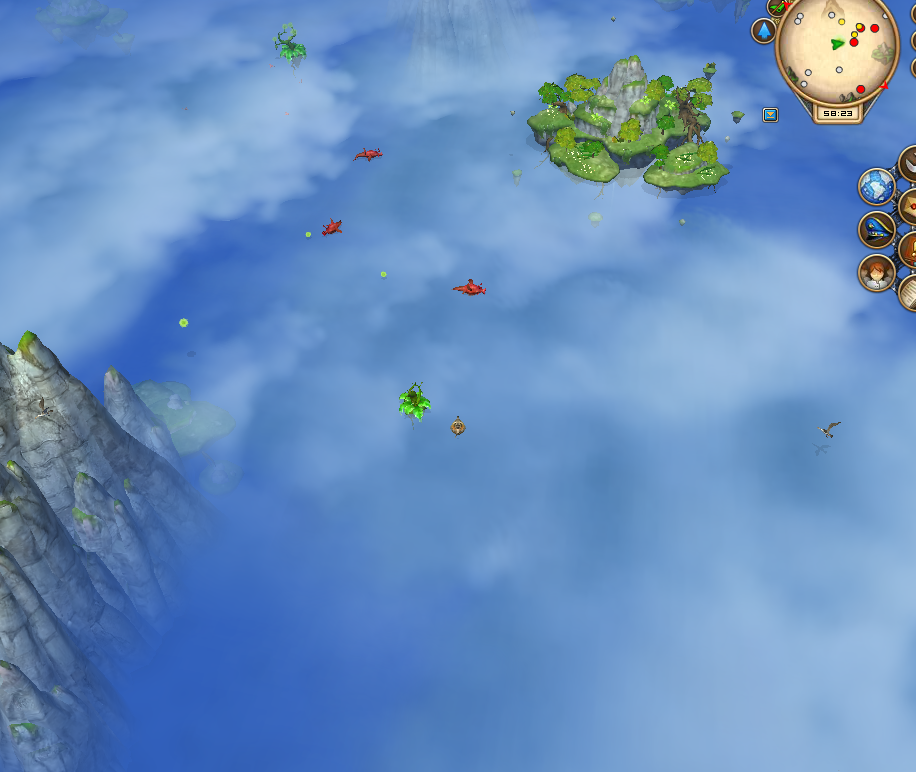dandelion-empty: (397, 378, 433, 426)
dandelion-full: (270, 19, 305, 72)
fluff: (175, 313, 193, 332), (378, 268, 390, 281), (303, 229, 314, 241)
